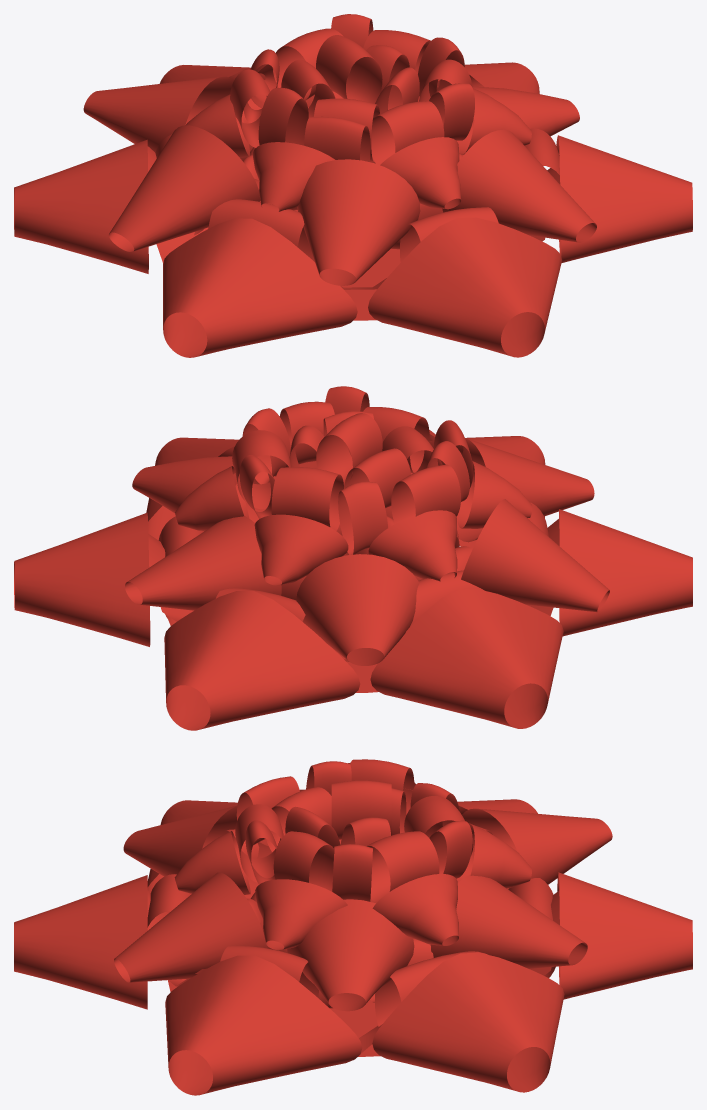
Rendered from moño.fbx.
3 renders of one model, top to bottom at view 1: azimuth 30°, elevation 25°; view 2: azimuth 150°, elevation 25°; view 3: azimuth 270°, elevation 25°, orthographic.
Visible parts, largest first — view 1: PresentBow_Cylinder.002; view 2: PresentBow_Cylinder.002; view 3: PresentBow_Cylinder.002.
Boxes of the visible parts, left/top/right/bottom form: PresentBow_Cylinder.002: left=14, top=14, right=692, bottom=357; PresentBow_Cylinder.002: left=14, top=386, right=692, bottom=730; PresentBow_Cylinder.002: left=14, top=759, right=692, bottom=1095.
Bounding box in the file's own units: 325 × 114 × 357.
